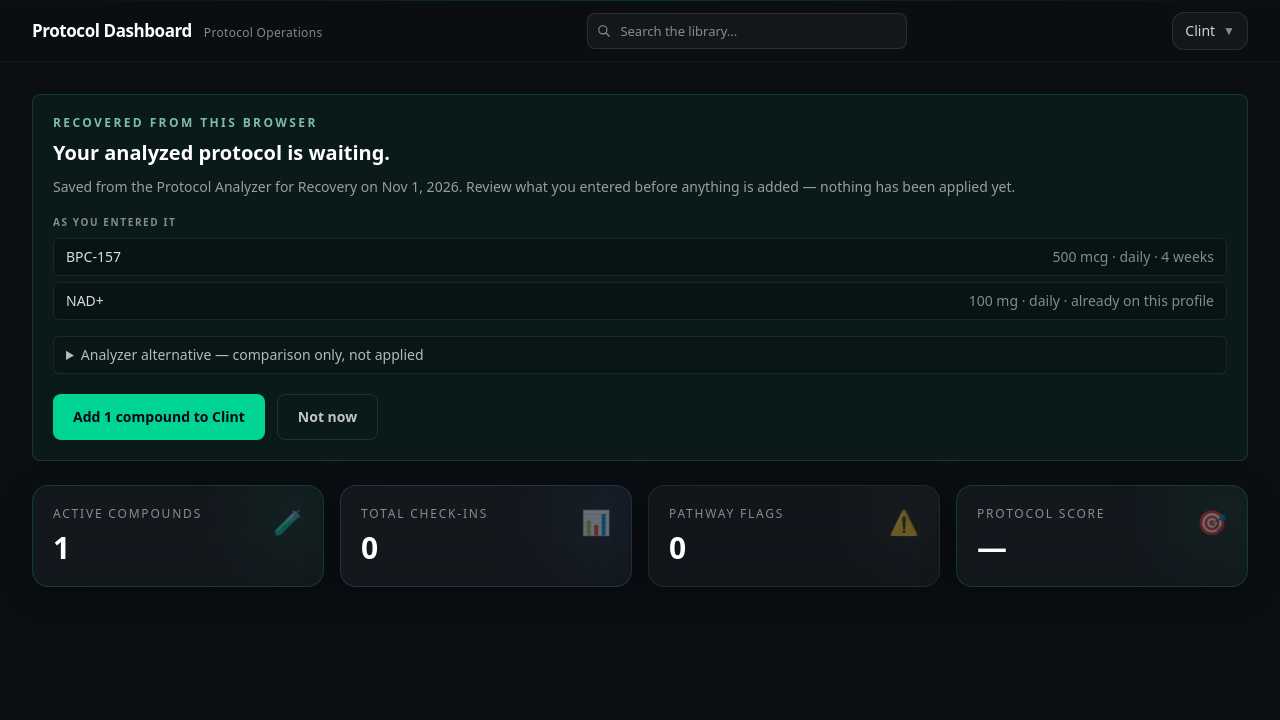
Test case: ProtocolConsole — analyzer draft continuation after sign-in › existing profile › offers the user-entered compounds for explicit confirmation and never adds anything on its own
Expected: the list with test id "analyzer-draft-original" shows "NAD+", [66,291,104,310]
Expected: the list with test id "analyzer-draft-original" shows "already on this profile", [1060,291,1214,310]
Step 1. Click the button "Add 1 compound to Clint" → (159, 417), box [53,394,265,440]
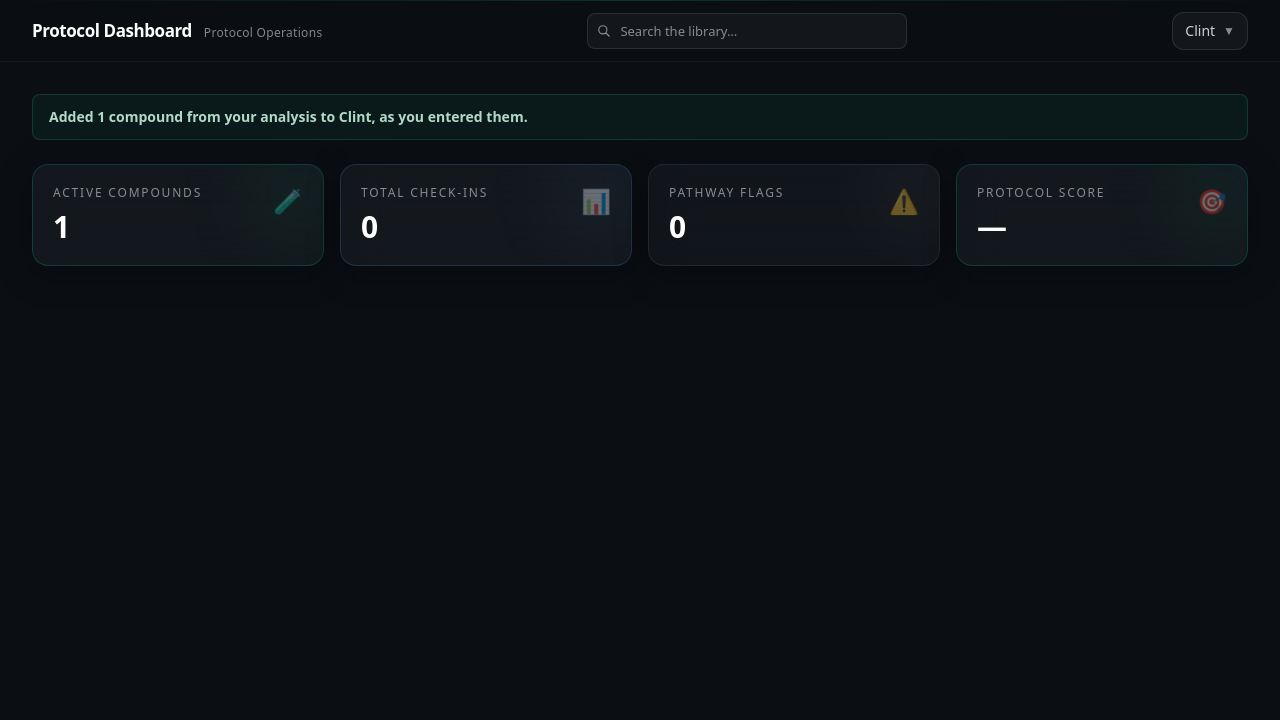
Expected: the message shows "Added 1 compound from your analysis to Clint", [49,107,528,126]
Expected: the heading "Your analyzed protocol is waiting." is gone
